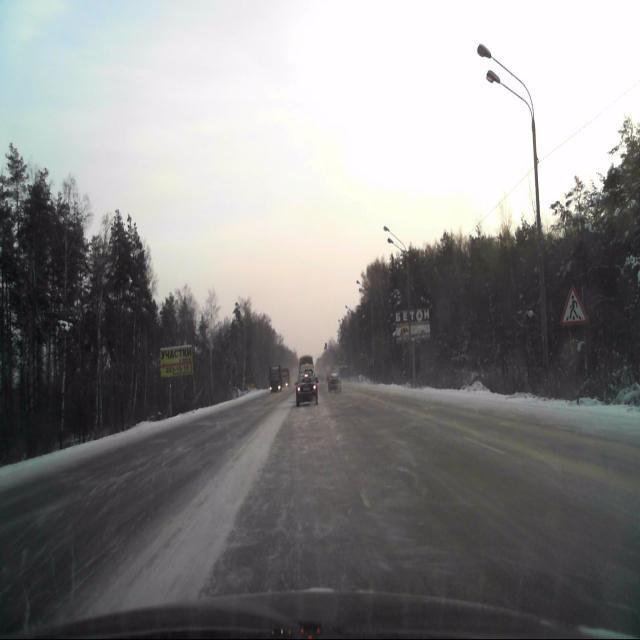road sign: (559, 285, 586, 329)
